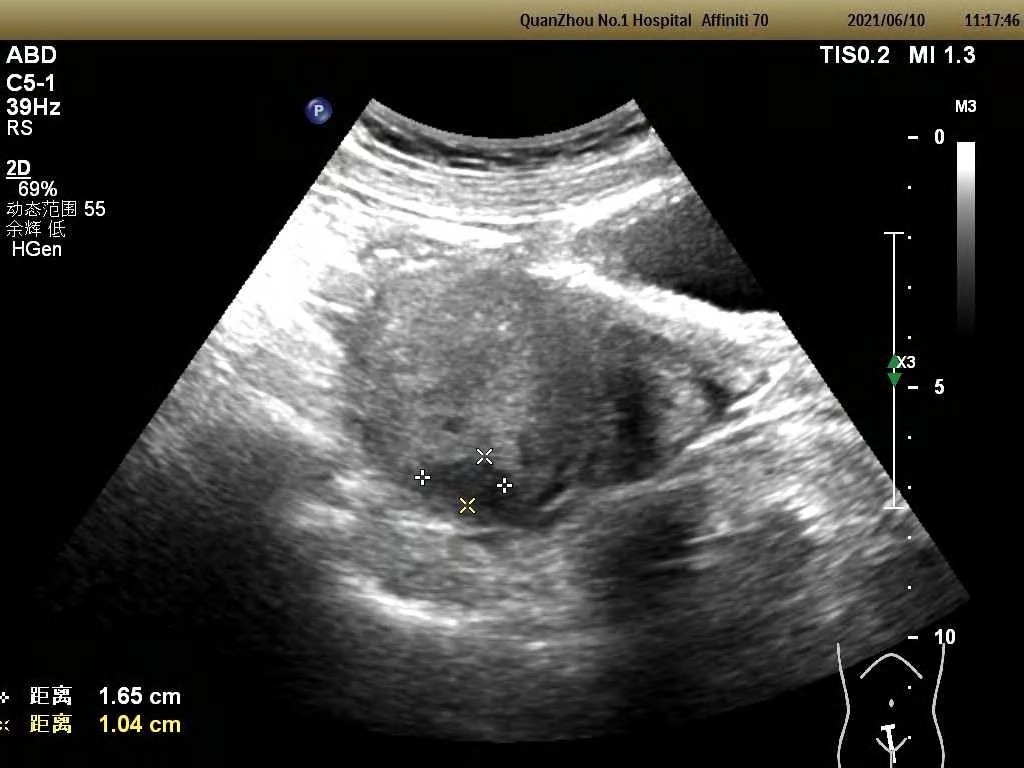肌瘤: (423, 460, 507, 507)
